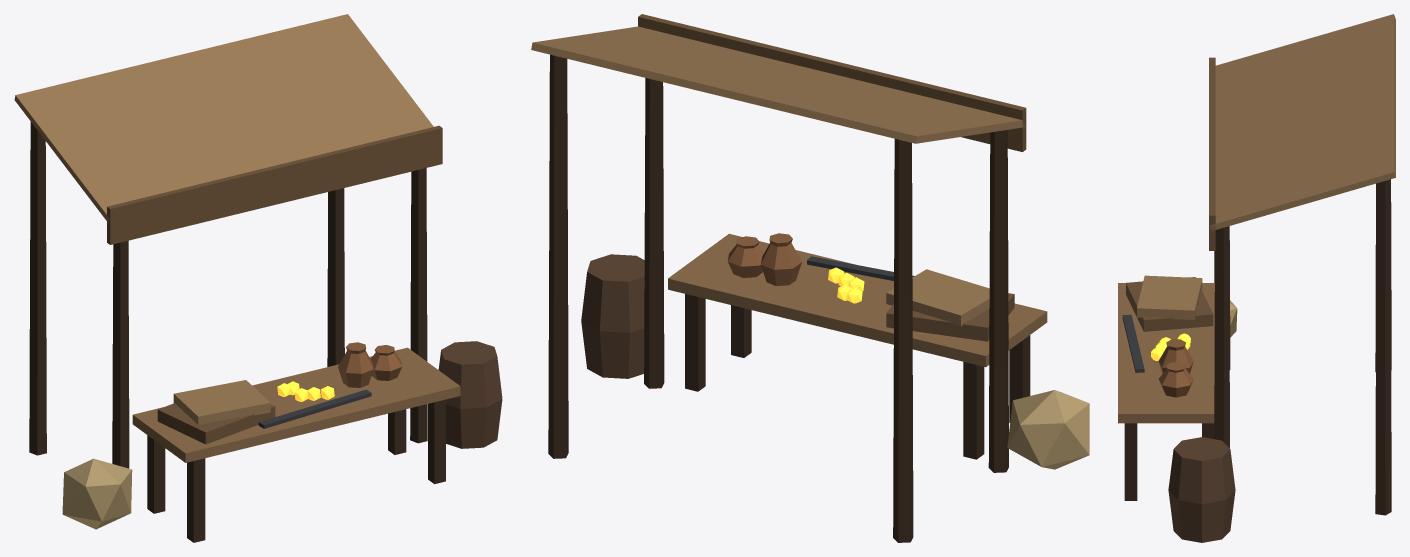
File: forest_stall.glb
3 renders of one model, left to right at view 1: azimuth 30°, elevation 25°; view 2: azimuth 150°, elevation 25°; view 3: azimuth 270°, elevation 25°, orthographic. The views are drawn at different scales.
Visible parts, largest first — view 1: forest_stall; view 2: forest_stall; view 3: forest_stall.
Part boxes in pixels (x1,y1,x2,y2): forest_stall: [14, 14, 502, 542]; forest_stall: [531, 14, 1089, 542]; forest_stall: [1118, 14, 1395, 542].
Bounding box in the file's own units: 3.81 × 2.97 × 2.15.
